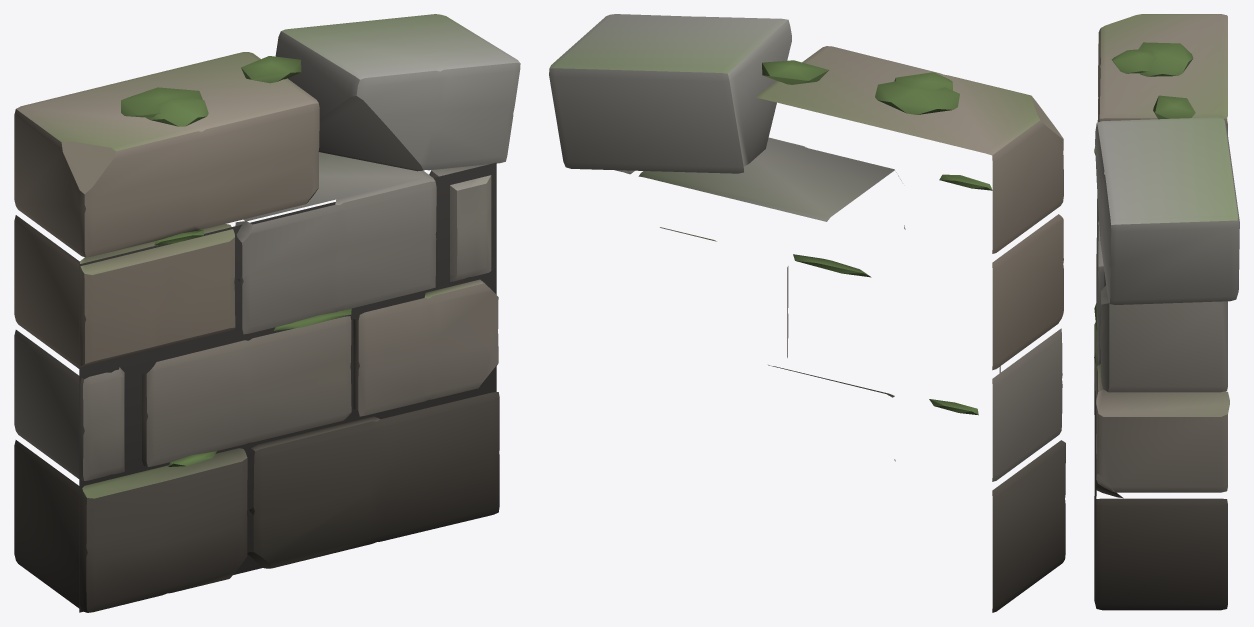
File: ruins-wall-b-v3.glb
The picture shows the model from 3 angles, left to right: view 1: azimuth 30°, elevation 25°; view 2: azimuth 150°, elevation 25°; view 3: azimuth 270°, elevation 25°; orthographic projection. The views are drawn at different scales.
Parts seen in each view (by area): view 1: 0_ruins_wall_b; view 2: 0_ruins_wall_b; view 3: 0_ruins_wall_b.
Part boxes in pixels (<box>): 0_ruins_wall_b: <box>14,14,520,612</box>; 0_ruins_wall_b: <box>549,14,1065,612</box>; 0_ruins_wall_b: <box>1094,14,1239,610</box>.
Bounding box in the file's own units: 2.11 × 2.14 × 0.6586.
